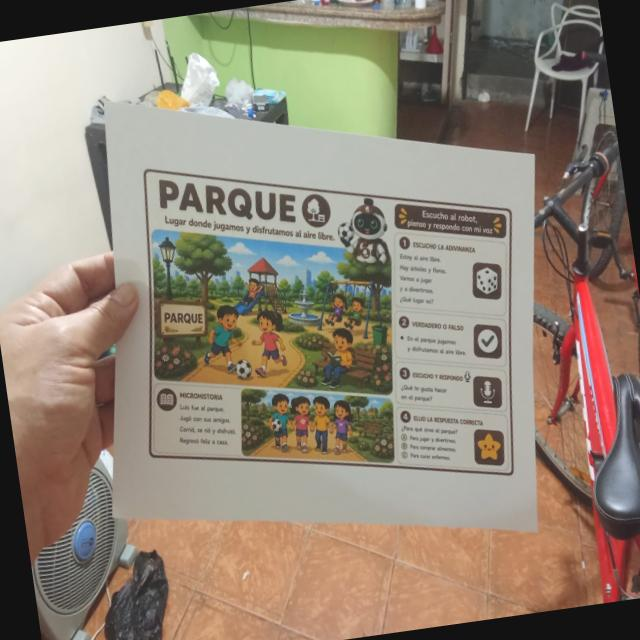parque: (106, 113, 553, 532)
